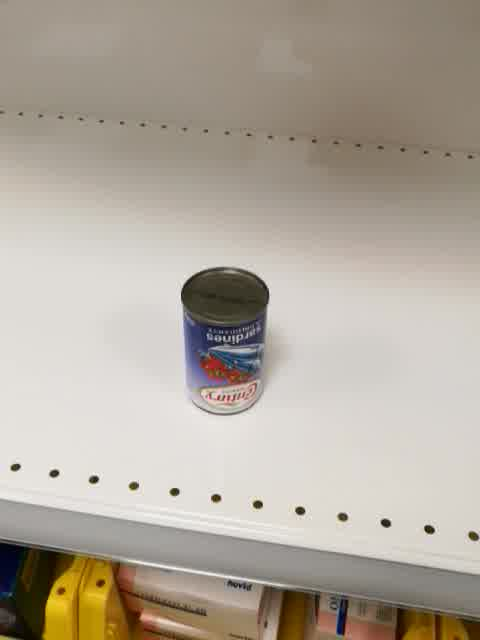sardine: (180, 265, 270, 416)
